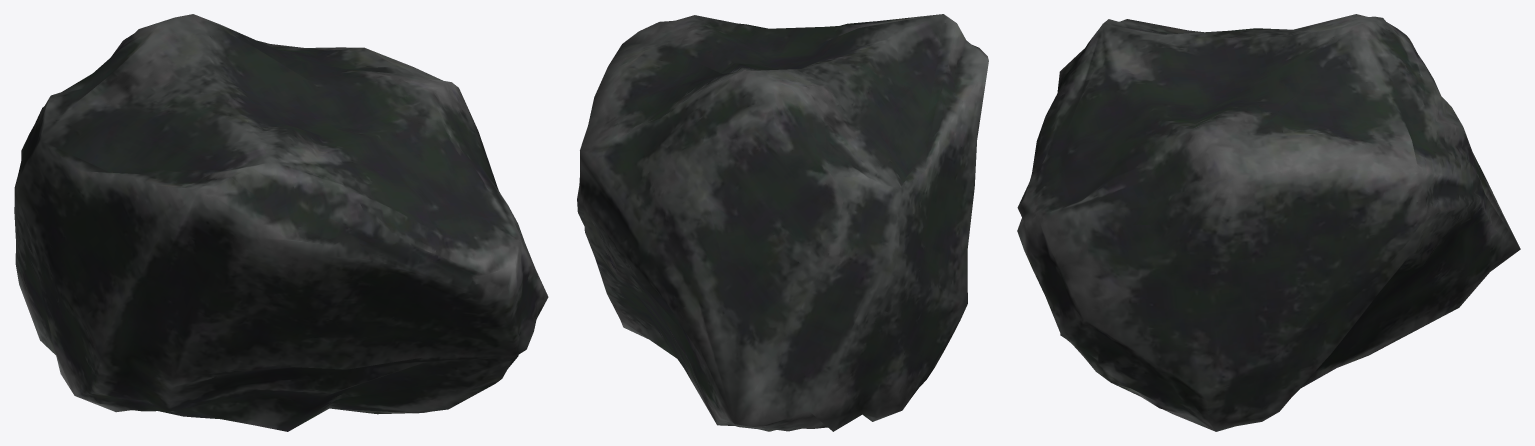
The model's file is rockDemo_08.glb.
3 views of the same model, side by side, from view 1: azimuth 30°, elevation 25°; view 2: azimuth 150°, elevation 25°; view 3: azimuth 270°, elevation 25° (orthographic). The views are drawn at different scales.
Visible parts, largest first — view 1: Rock_08; view 2: Rock_08; view 3: Rock_08.
Part boxes in pixels (x1,y1,x2,y2): Rock_08: [14, 14, 548, 431]; Rock_08: [577, 14, 988, 431]; Rock_08: [1017, 14, 1520, 431].
Size of the model in its own units: 0.4423 by 0.4106 by 0.5607.
1 material, 1 textured.
